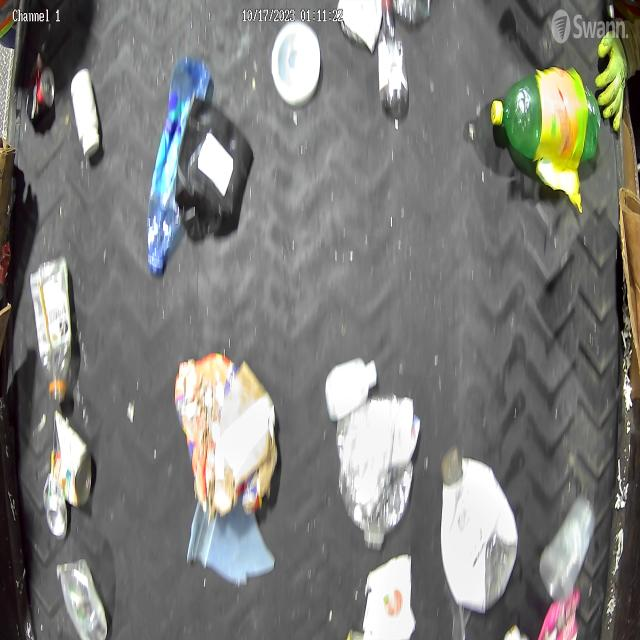can: (50, 415, 94, 510), (43, 474, 68, 538), (26, 66, 54, 120)
plastic_bottle: (30, 260, 76, 406), (377, 1, 411, 117)
